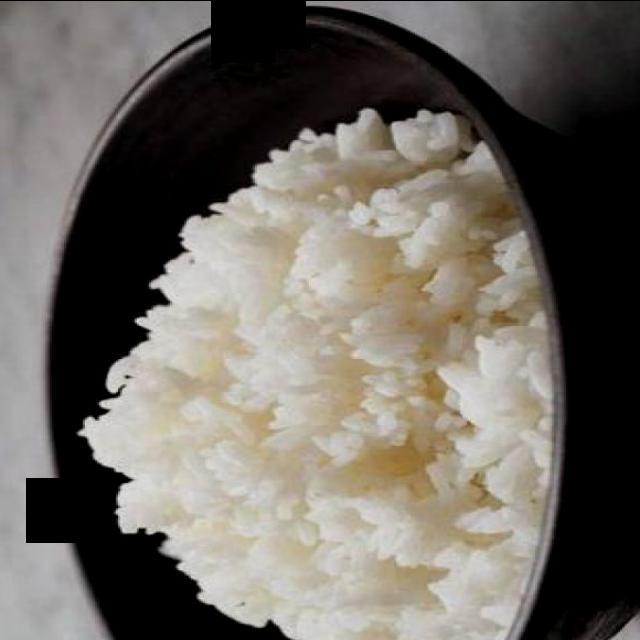rice: (73, 106, 559, 640)
